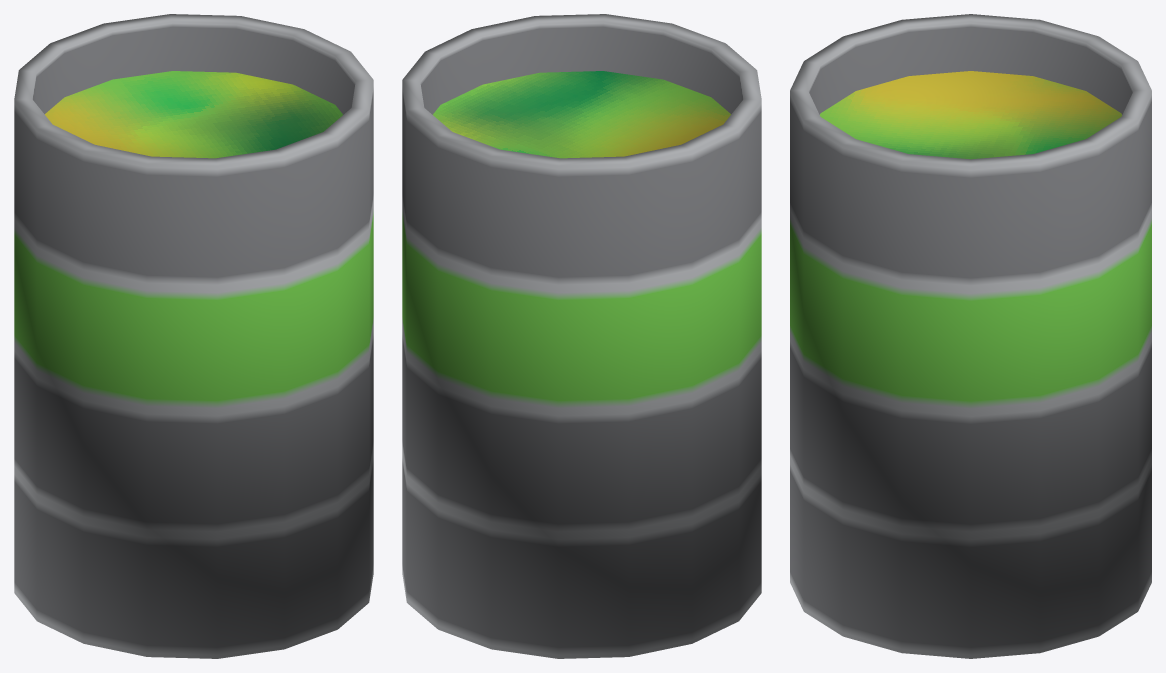
Rendered from Barrel.fbx.
3 renders of one model, left to right at view 1: azimuth 30°, elevation 25°; view 2: azimuth 150°, elevation 25°; view 3: azimuth 270°, elevation 25°, orthographic.
Parts seen in each view (by area): view 1: Barrel; view 2: Barrel; view 3: Barrel.
Part boxes in pixels (x1=…): Barrel: x1=14, y1=14, x2=373, y2=658; Barrel: x1=402, y1=14, x2=761, y2=658; Barrel: x1=790, y1=14, x2=1151, y2=658.
Size of the model in its own units: 133 by 200 by 133.
Materials: 2 (2 with a texture image).
